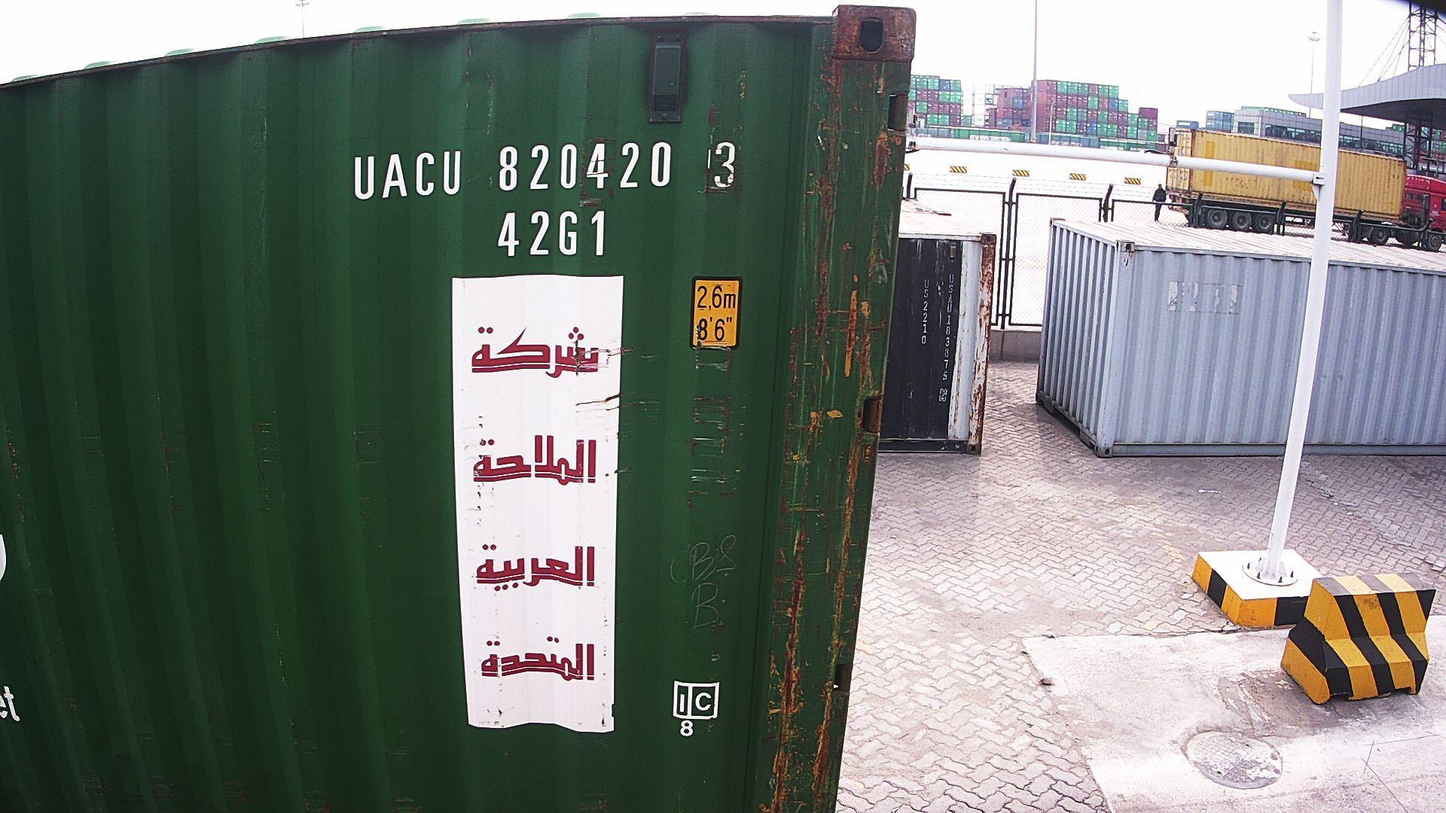container-numbers: (340, 136, 745, 209), (495, 206, 614, 261)
